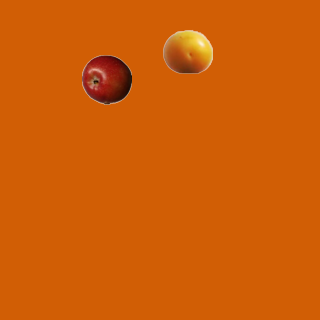Apple Braeburn: (81, 54, 131, 104)
Cherry Wax Yellow: (162, 26, 212, 76)
